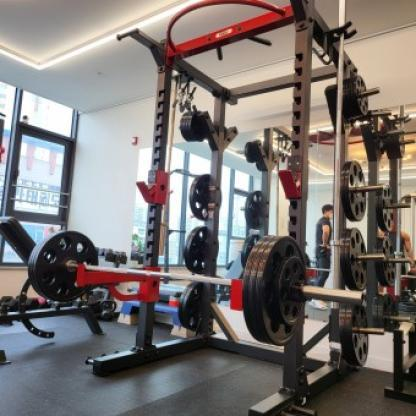smith machine: (114, 1, 370, 416)
